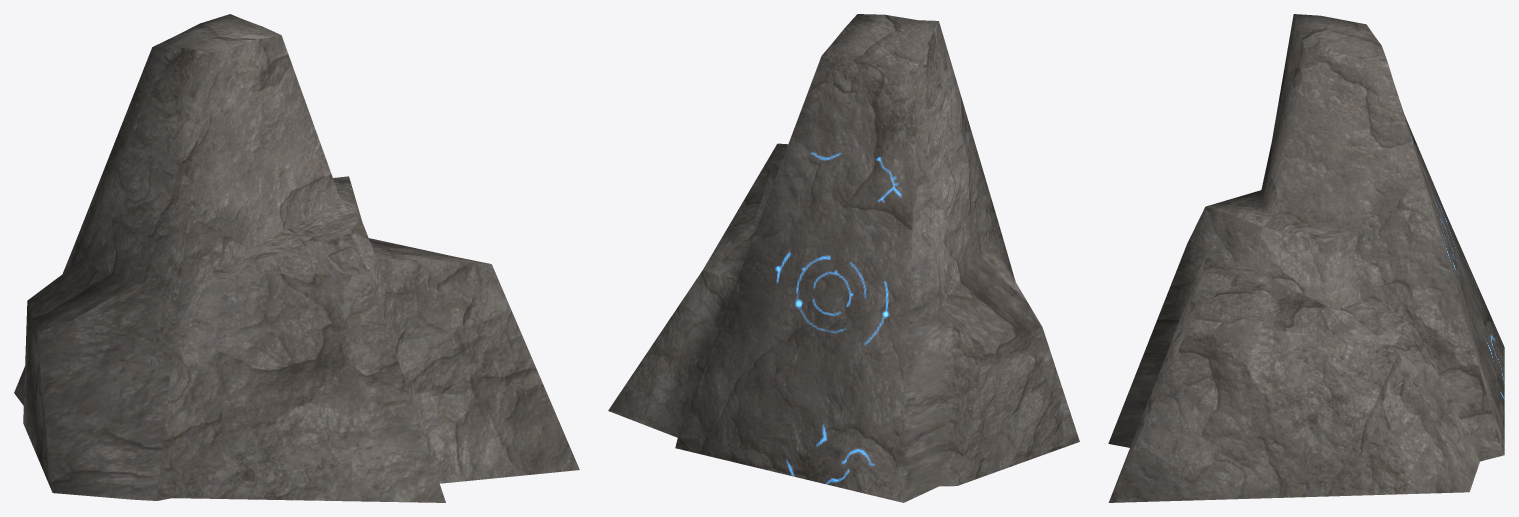
File: caveRock_edit_for_FBX.fbx
3 renders of one model, left to right at view 1: azimuth 30°, elevation 25°; view 2: azimuth 150°, elevation 25°; view 3: azimuth 270°, elevation 25°, orthographic. The views are drawn at different scales.
Parts seen in each view (by area): view 1: cave_rock; view 2: cave_rock; view 3: cave_rock.
Part boxes in pixels (x1=…): cave_rock: x1=14, y1=14, x2=579, y2=502; cave_rock: x1=608, y1=14, x2=1079, y2=502; cave_rock: x1=1108, y1=14, x2=1504, y2=502.
Size of the model in its own units: 16611 by 15398 by 14914.
